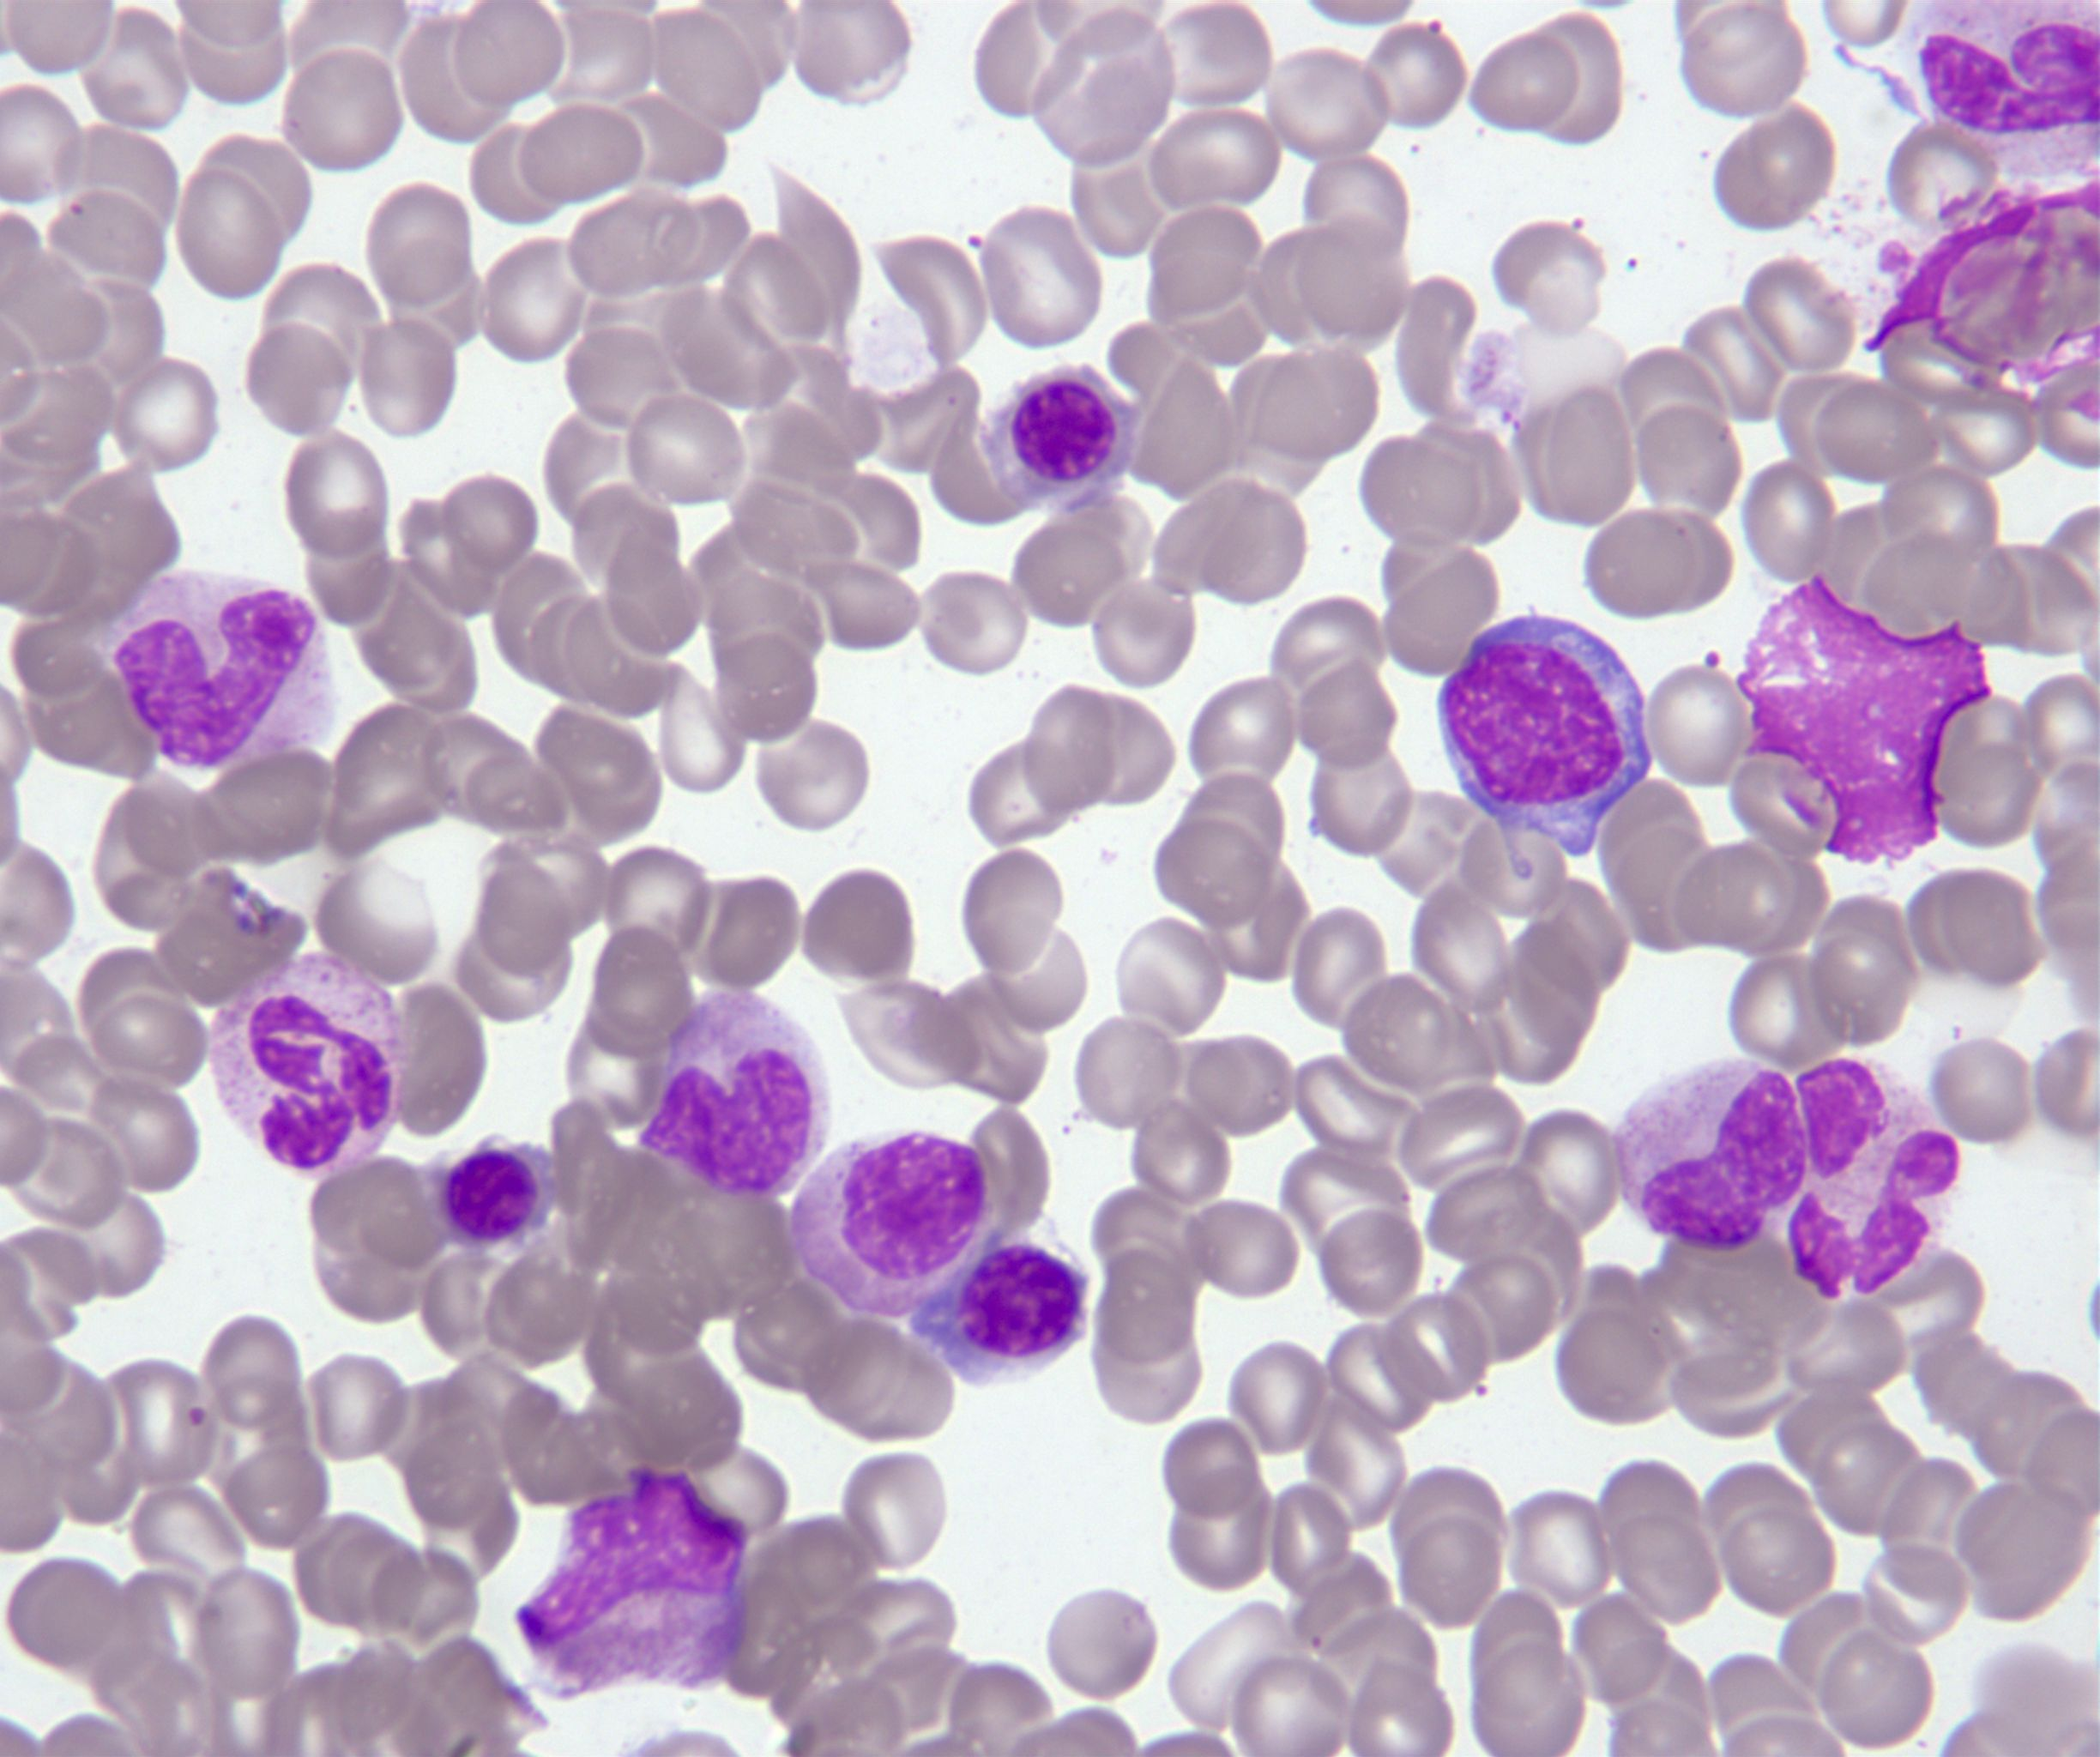22: (1434, 611, 1653, 860)
23: (909, 1225, 1090, 1394), (972, 361, 1146, 515), (426, 1131, 563, 1255)
4: (635, 982, 835, 1204)
5: (94, 564, 340, 783), (206, 947, 413, 1186), (1606, 1054, 1800, 1256)
6: (1783, 1050, 1964, 1307)
x: (511, 1462, 750, 1705), (787, 1125, 994, 1321)
